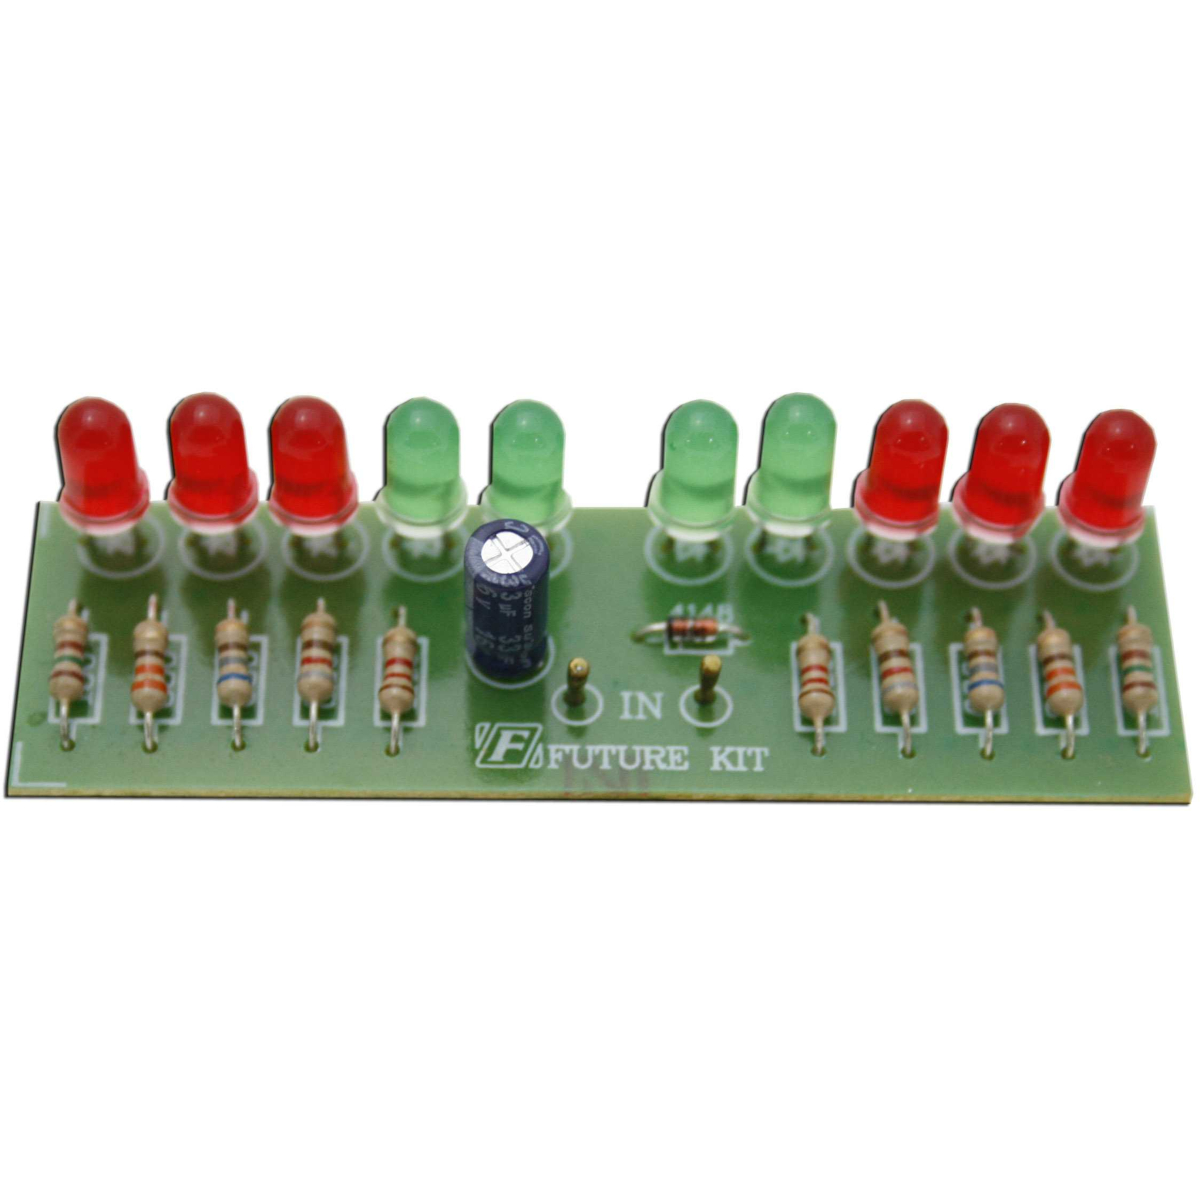Capacitor: (462, 513, 549, 684)
Diode: (660, 613, 727, 640)
LED: (948, 403, 1051, 547), (54, 395, 154, 538), (643, 398, 741, 543), (1058, 410, 1159, 549), (743, 392, 841, 536), (853, 398, 952, 540), (163, 393, 260, 536), (375, 396, 469, 538), (266, 395, 360, 534), (482, 402, 574, 536)
Resistor: (865, 618, 927, 718), (1030, 624, 1089, 719), (1113, 619, 1165, 723), (374, 622, 427, 720), (293, 611, 342, 711), (126, 614, 173, 719), (958, 622, 1008, 716), (45, 610, 93, 705), (214, 613, 255, 716), (795, 630, 838, 724)
